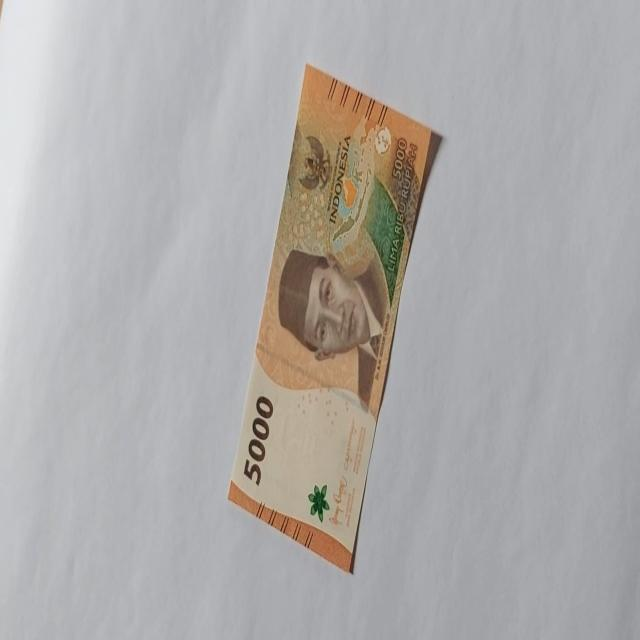lima ribu rupiah: (226, 62, 444, 574), (276, 244, 388, 364)
